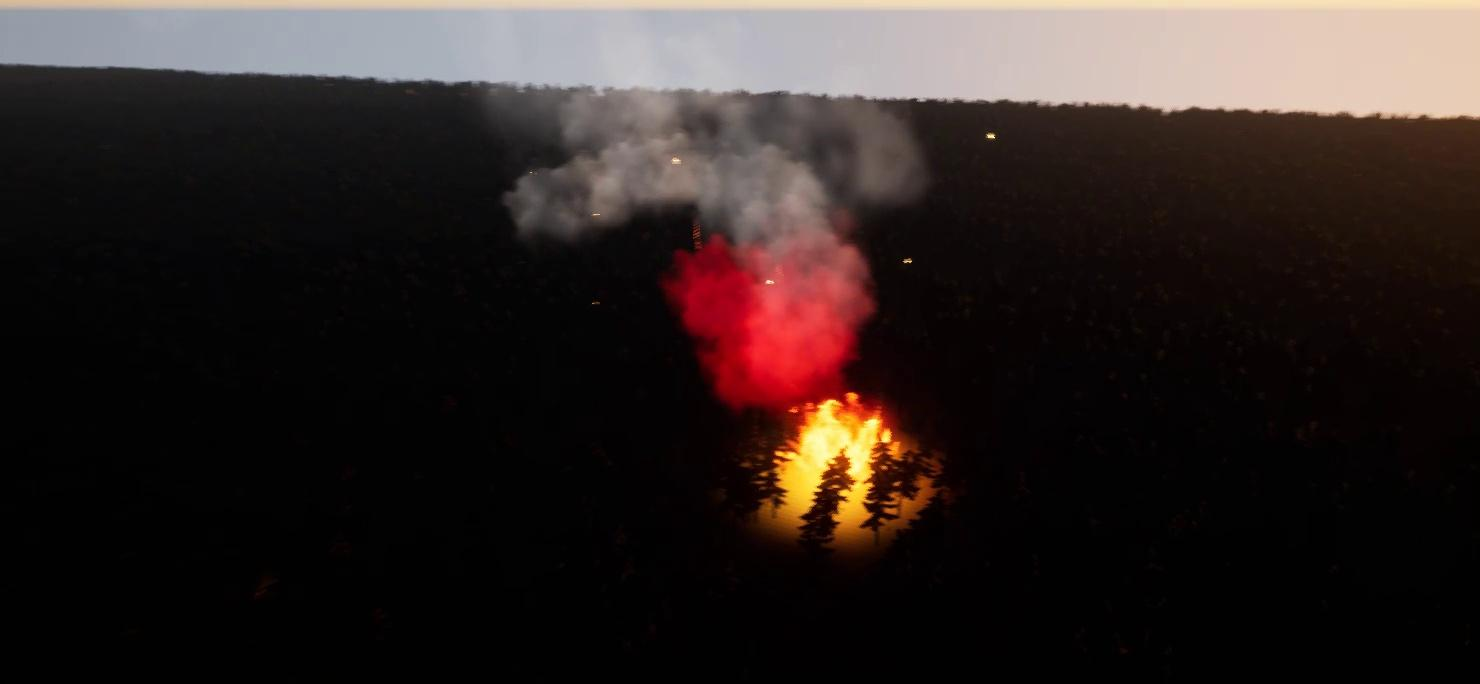fire: (787, 399, 904, 482)
smoke: (491, 76, 924, 397)
